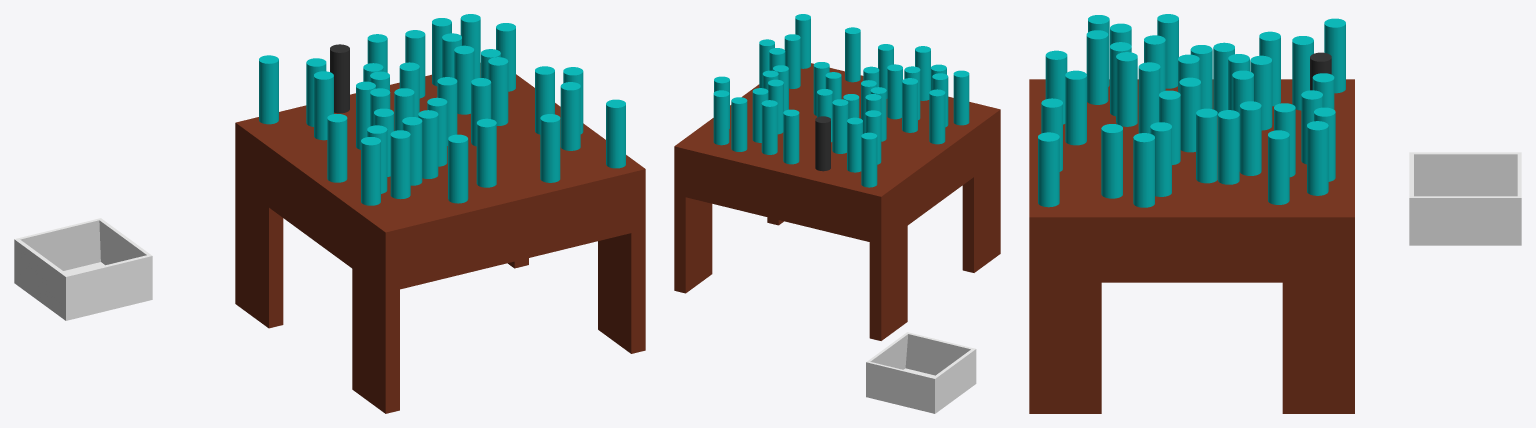
File: can_world_36_cans.dae
3 renders of one model, left to right at view 1: azimuth 30°, elevation 25°; view 2: azimuth 150°, elevation 25°; view 3: azimuth 270°, elevation 25°, orthographic. The views are drawn at different scales.
Visible parts, largest first — view 1: base (×35), SketchUp (×2); view 2: base (×35), SketchUp (×2); view 3: base (×38), SketchUp (×2).
Part boxes in pixels (bbox=[...]): base (×35): bbox=[235, 14, 645, 413]; SketchUp (×2): bbox=[14, 218, 152, 320]; base (×35): bbox=[674, 14, 1000, 340]; SketchUp (×2): bbox=[866, 332, 976, 413]; base (×38): bbox=[1029, 14, 1354, 413]; SketchUp (×2): bbox=[1409, 152, 1521, 245].
Size of the model in its own units: 1.4 by 1.36 by 0.811.
